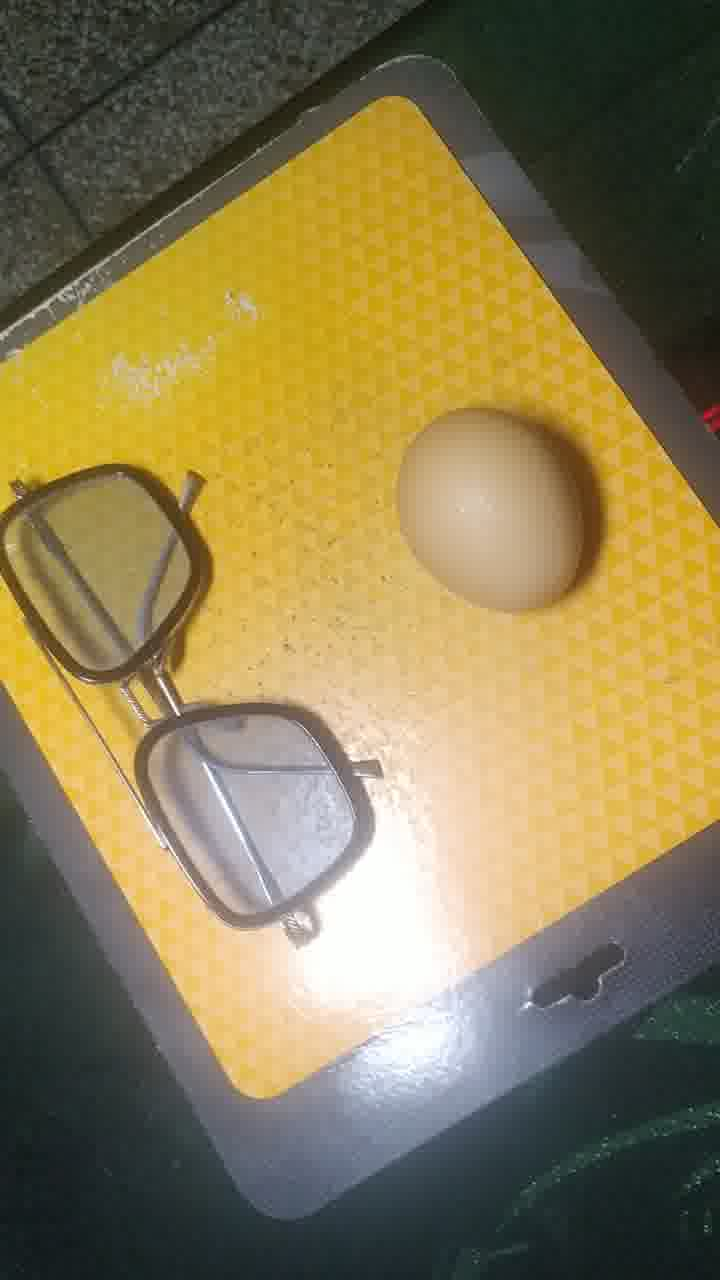egg: (388, 407, 608, 636)
sunglass: (6, 456, 391, 938)
